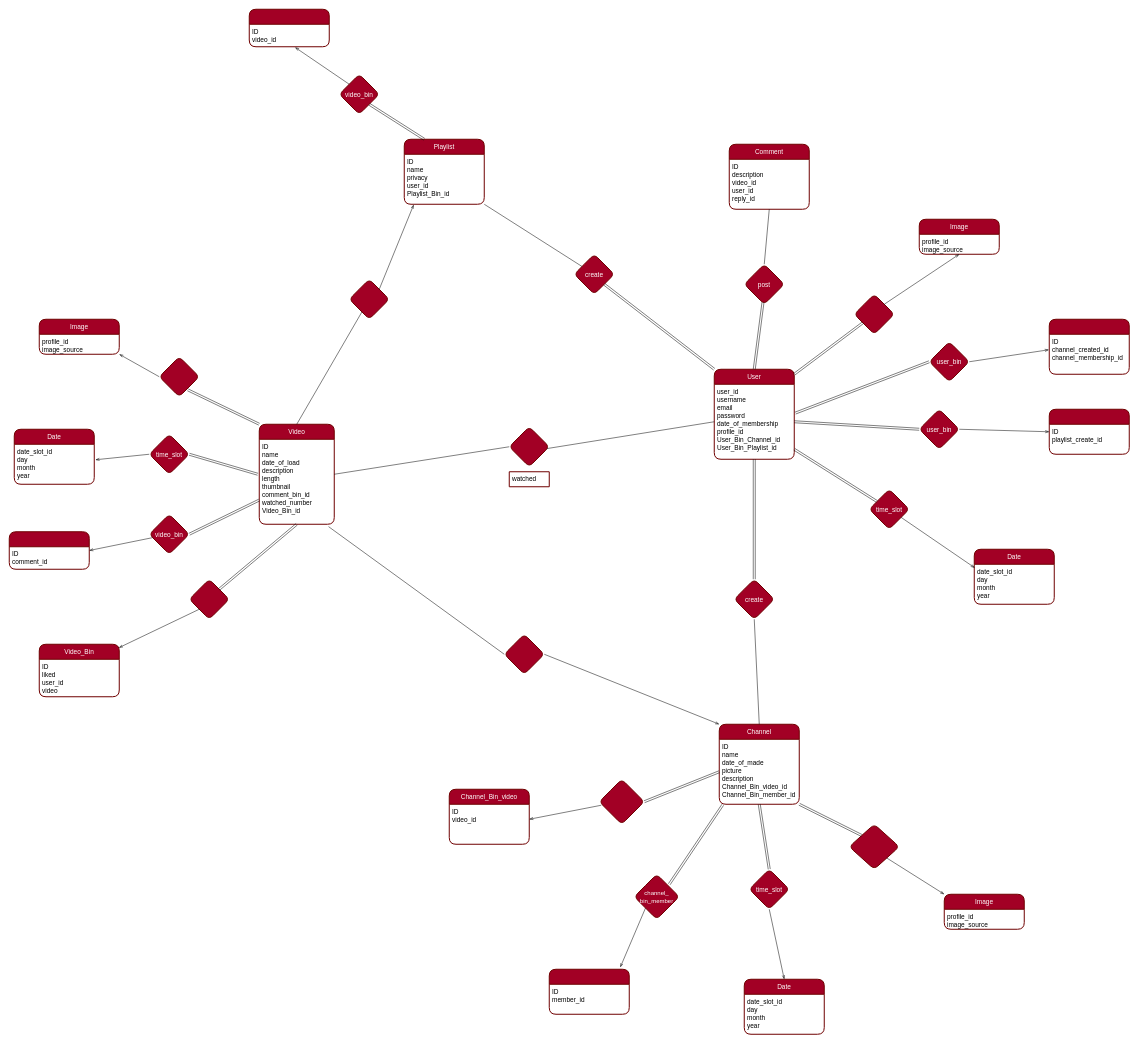
Image size: 1138x1043. Some labels were removed from this diagram. Here are the shapes that lost their labels. From the top down, the box of each, then its label:
(248, 8, 330, 47): Playlist_Bin
(348, 278, 390, 320): contain
(854, 294, 894, 334): user_profile
(1048, 318, 1130, 374): User_Bin_Channel
(158, 356, 200, 397): video_profile
(508, 426, 550, 467): watch
(1048, 408, 1130, 454): User_Bin_Playlist
(8, 531, 90, 570): Comment_Bin
(188, 578, 230, 620): like_dislike
(504, 634, 544, 674): upload
(598, 778, 644, 824): channel_ bin_video
(848, 824, 900, 870): channel_profile
(548, 968, 630, 1014): Channel_Bin_member
